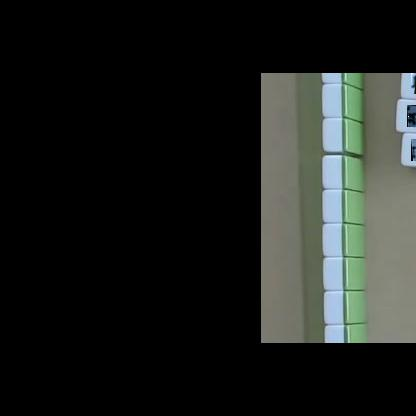6z: (407, 105, 416, 127), (411, 139, 416, 161), (411, 73, 416, 94)
